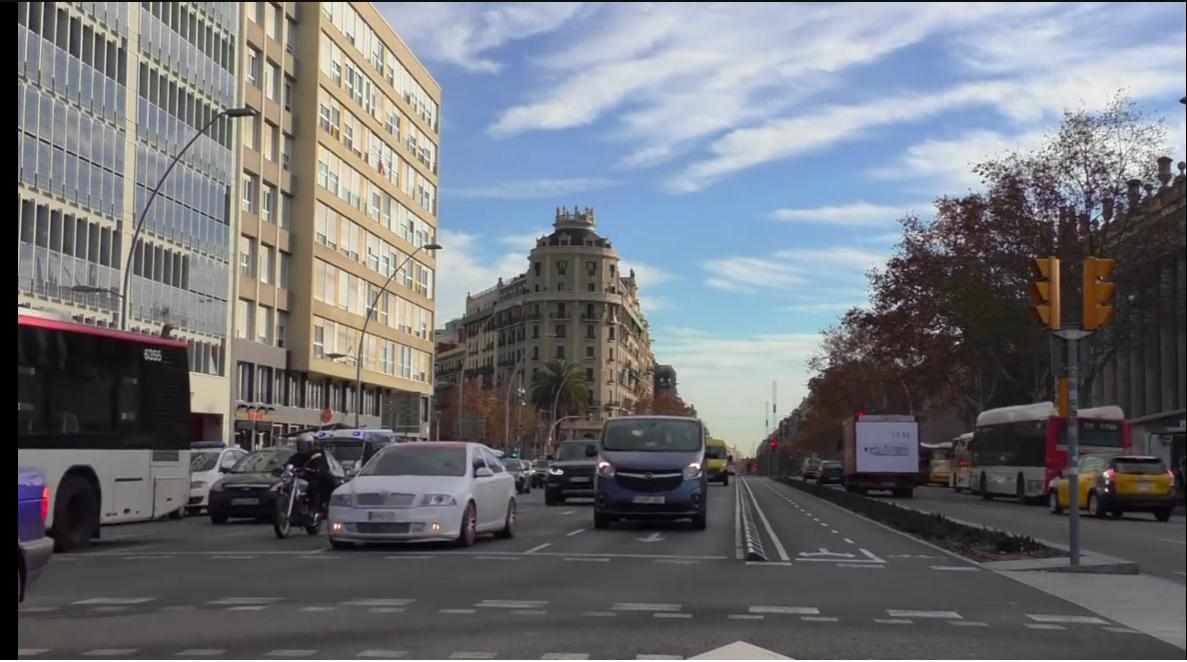bus: (13, 297, 218, 533), (971, 397, 1135, 503)
car: (357, 426, 522, 567), (1061, 455, 1180, 546), (539, 433, 604, 517)
motorcycle: (280, 430, 339, 554)
truck: (844, 409, 962, 519)
